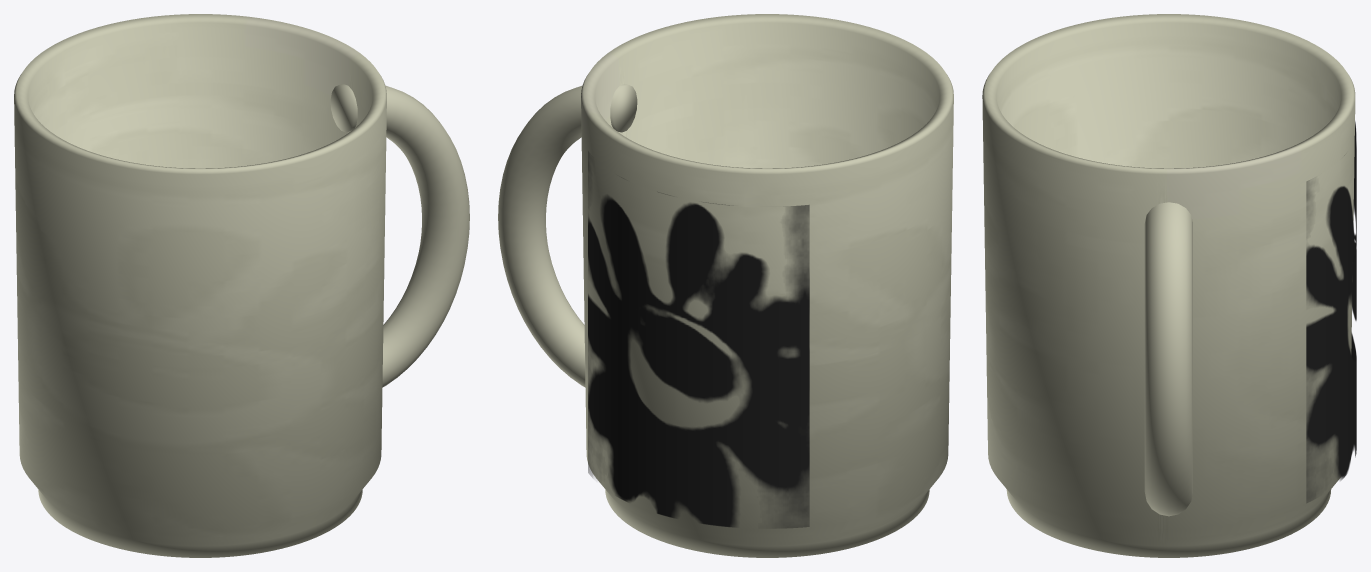
The model's file is dishware__ceramic_mug.glb.
3 views of the same model, side by side, from view 1: azimuth 30°, elevation 25°; view 2: azimuth 150°, elevation 25°; view 3: azimuth 270°, elevation 25° (orthographic).
Visible parts, largest first — view 1: body; view 2: body; view 3: body.
Boxes of the visible parts, x1=… form: body: x1=14, y1=14, x2=469, y2=557; body: x1=498, y1=14, x2=953, y2=557; body: x1=982, y1=14, x2=1356, y2=557.
Bounding box in the file's own units: 0.1126 × 0.1 × 0.0853.
2 materials, 2 textured.
